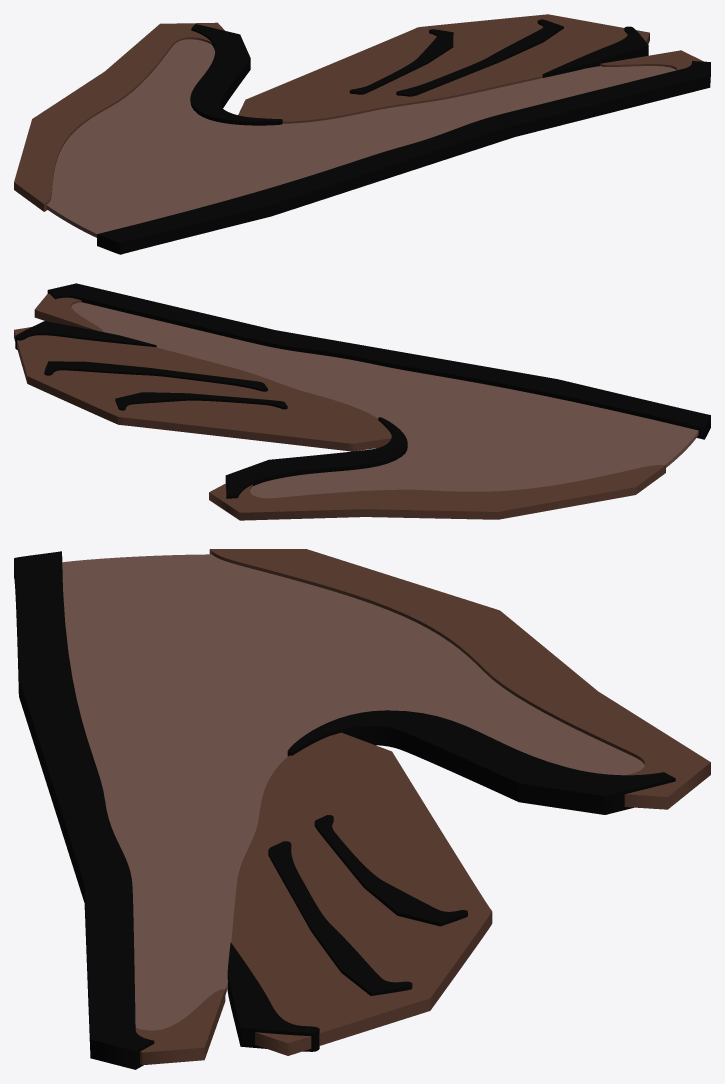
File: emoji_u1faf4_1f3ff.glb
3 views of the same model, one above another, from view 1: azimuth 30°, elevation 25°; view 2: azimuth 150°, elevation 25°; view 3: azimuth 270°, elevation 25° (orthographic). The views are drawn at different scales.
Parts seen in each view (by area): view 1: emoji_u1faf4_1f3ff; view 2: emoji_u1faf4_1f3ff; view 3: emoji_u1faf4_1f3ff.
Boxes of the visible parts, left/top/right/bottom form: emoji_u1faf4_1f3ff: left=14, top=14, right=710, bottom=254; emoji_u1faf4_1f3ff: left=14, top=283, right=710, bottom=520; emoji_u1faf4_1f3ff: left=14, top=549, right=710, bottom=1069.
Bounding box in the file's own units: 0.0343 × 0.0006 × 0.02.
